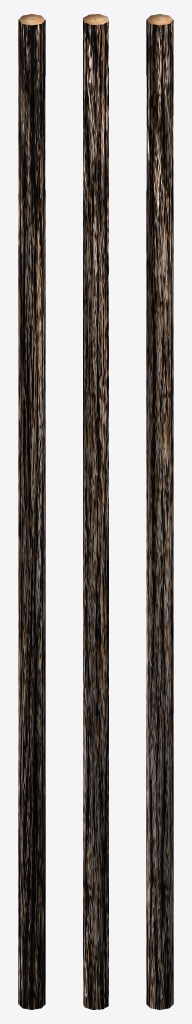
File: Stick.fbx
3 views of the same model, side by side, from view 1: azimuth 90°, elevation 25°; view 2: azimuth 210°, elevation 25°; view 3: azimuth 270°, elevation 25° (orthographic).
Parts seen in each view (by area): view 1: stick, piece_1, piece_4, piece_3; view 2: stick, piece_2, piece_4, piece_1; view 3: stick, piece_2, piece_1, piece_4, piece_3.
Part boxes in pixels (x1,y1,x2,y2): stick: (18, 128, 45, 1009); piece_1: (18, 14, 45, 162); piece_4: (18, 85, 31, 254); piece_3: (41, 87, 45, 140); stick: (83, 178, 108, 1009); piece_2: (83, 31, 102, 211); piece_4: (92, 89, 108, 252); piece_1: (83, 14, 108, 122); stick: (146, 145, 173, 1009); piece_2: (146, 34, 173, 214); piece_1: (146, 14, 173, 82); piece_4: (169, 86, 173, 244); piece_3: (146, 91, 150, 173).
Size of the model in its own units: 10 by 400 by 10.
1 material, 1 textured.
